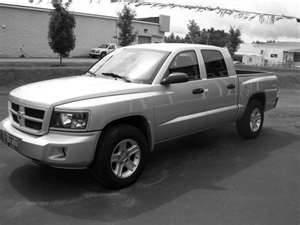car: (2, 43, 278, 186)
